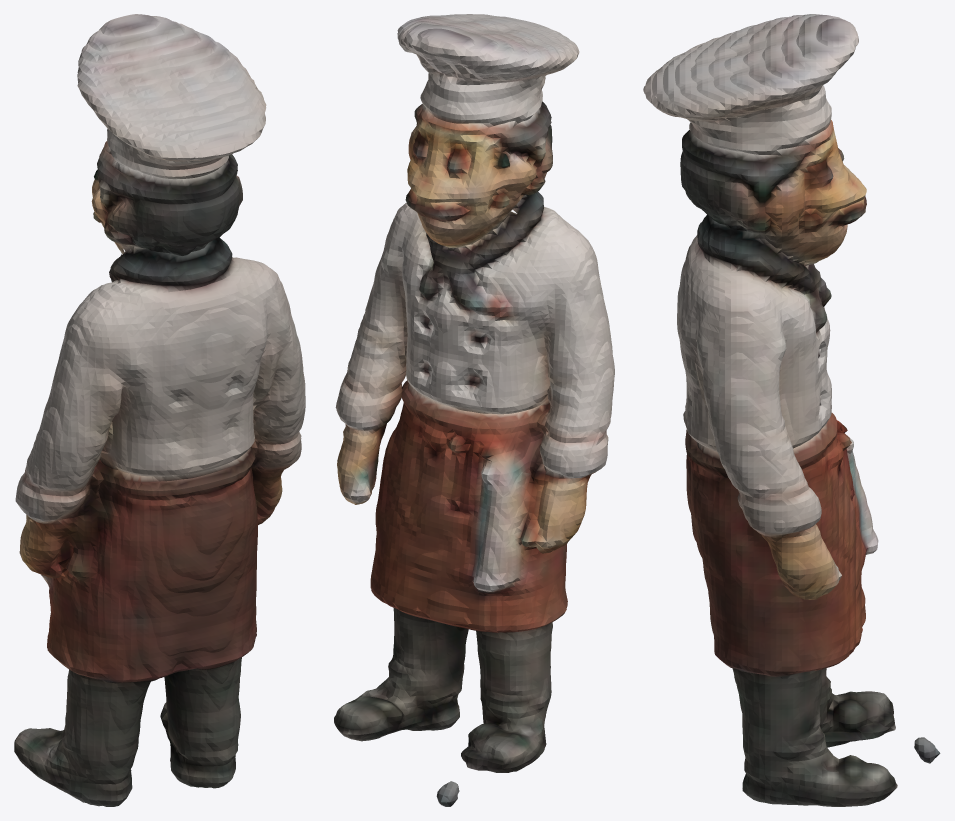
The model's file is chef.glb.
3 renders of one model, left to right at view 1: azimuth 30°, elevation 25°; view 2: azimuth 150°, elevation 25°; view 3: azimuth 270°, elevation 25°, orthographic. The views are drawn at different scales.
Parts seen in each view (by area): view 1: world; view 2: world; view 3: world.
Part boxes in pixels (x1,y1,x2,y2): world: (14, 14, 305, 806); world: (334, 14, 614, 806); world: (643, 14, 940, 806).
Size of the model in its own units: 0.3761 by 1 by 0.3562.
